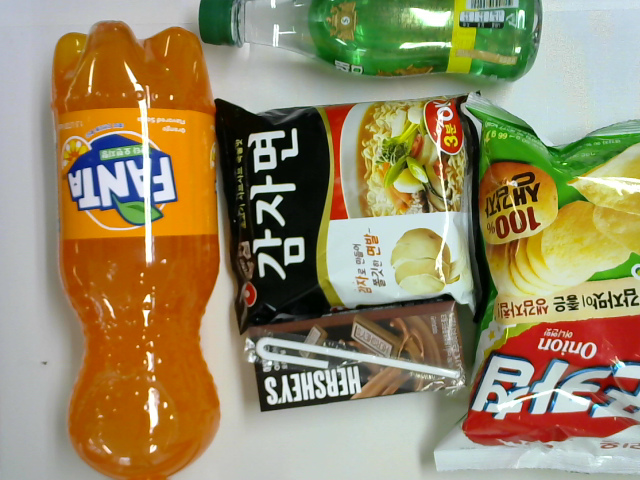Hush_Choco_Drink: (247, 292, 471, 415)
Hwanta_Orange_1.5L: (51, 19, 223, 479)
Pocachip_Onion: (432, 90, 640, 476)
Potato: (213, 91, 490, 328)
Seagram_Lemon_Carbonated_Water: (197, 1, 546, 86)
